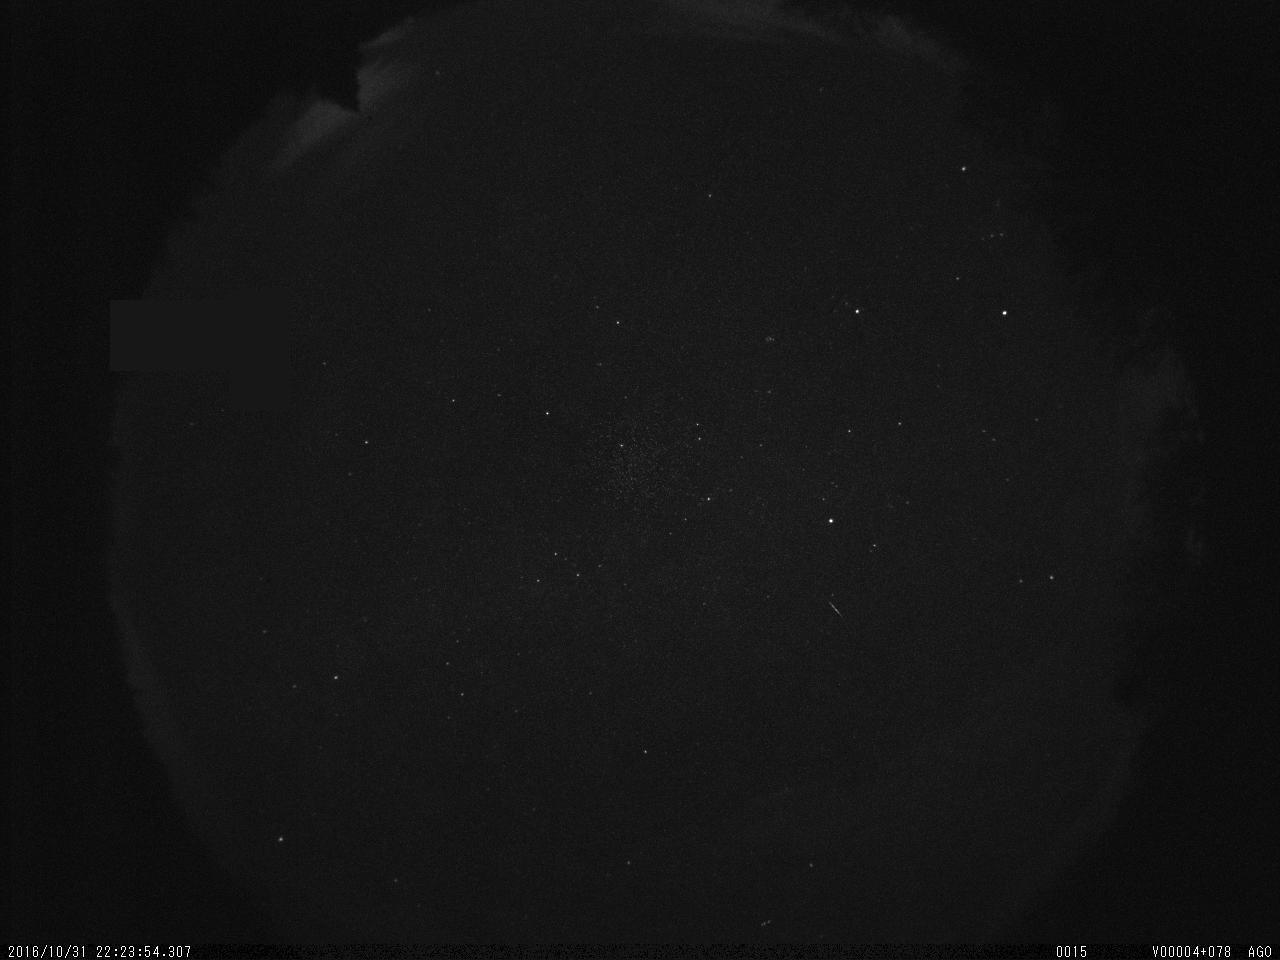meteor: (824, 597, 852, 624)
